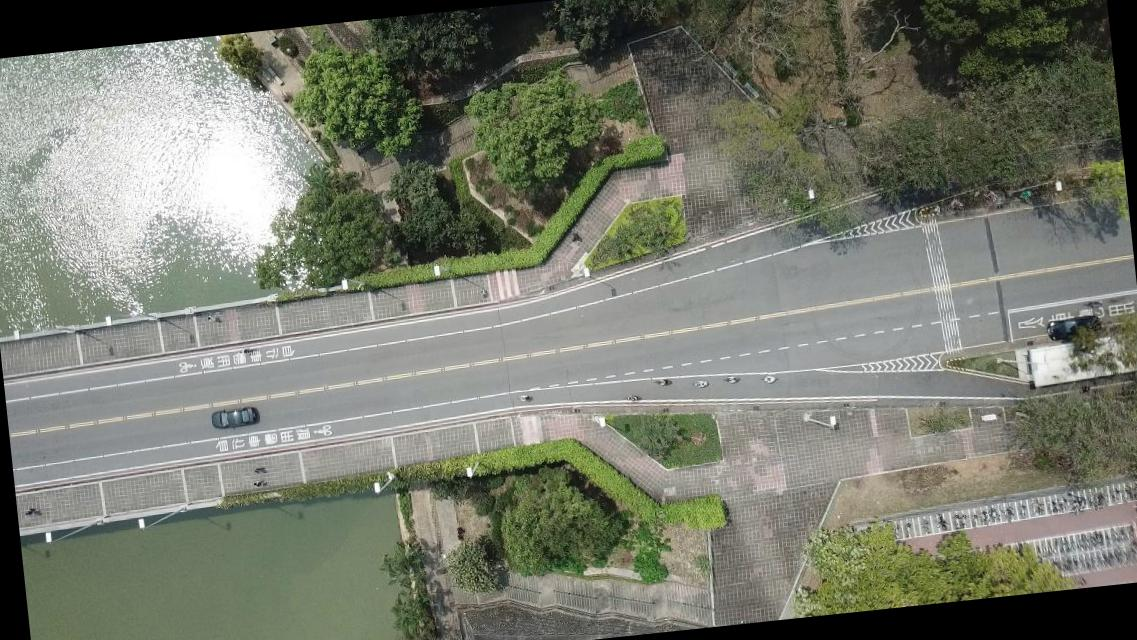vehicle: (1046, 313, 1104, 341), (210, 404, 257, 430)
